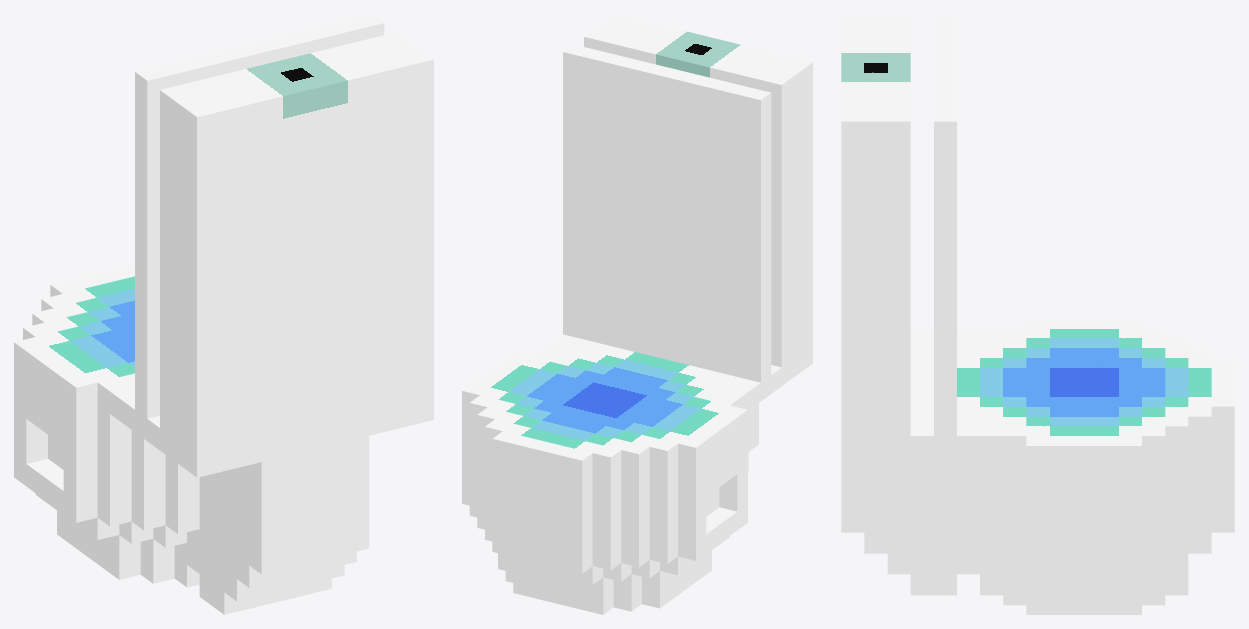
The picture shows the model from 3 angles, left to right: view 1: azimuth 30°, elevation 25°; view 2: azimuth 150°, elevation 25°; view 3: azimuth 270°, elevation 25°; orthographic projection. The views are drawn at different scales.
Parts seen in each view (by area): view 1: Object; view 2: Object; view 3: Object.
Part boxes in pixels (<box>): Object: <box>14,14,433,614</box>; Object: <box>462,14,812,614</box>; Object: <box>841,14,1234,614</box>.
Bounding box in the file's own units: 13 × 24 × 17.
1 material, 1 textured.
